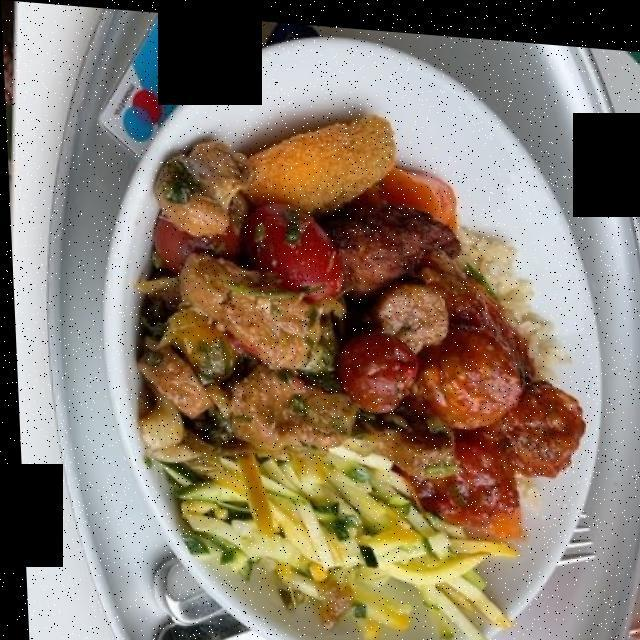rice: (462, 239, 556, 362)
tomato-cooked: (151, 208, 341, 305)
tomato-sauce: (146, 189, 567, 546)
zucchini: (169, 444, 484, 611)
